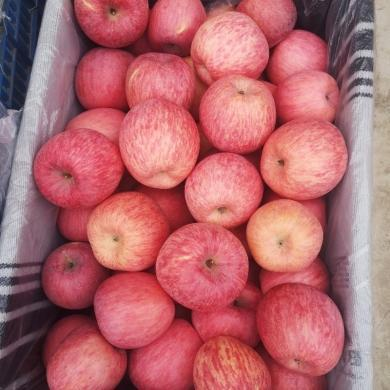apple: (255, 281, 344, 374), (156, 221, 248, 310), (117, 97, 201, 190), (31, 129, 125, 208), (259, 115, 347, 199), (85, 189, 169, 270), (94, 270, 175, 347), (198, 75, 277, 150), (185, 151, 264, 226), (127, 315, 204, 390), (191, 10, 269, 81), (248, 198, 323, 271), (47, 325, 127, 390), (41, 243, 107, 313), (194, 334, 272, 390), (125, 51, 197, 108), (73, 47, 132, 110), (74, 1, 147, 50), (278, 71, 340, 119), (149, 1, 206, 53)
